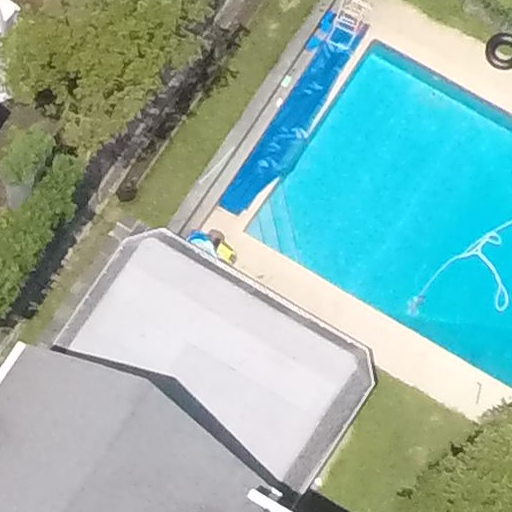pool: (225, 40, 512, 405)
tarp: (201, 12, 378, 222)
